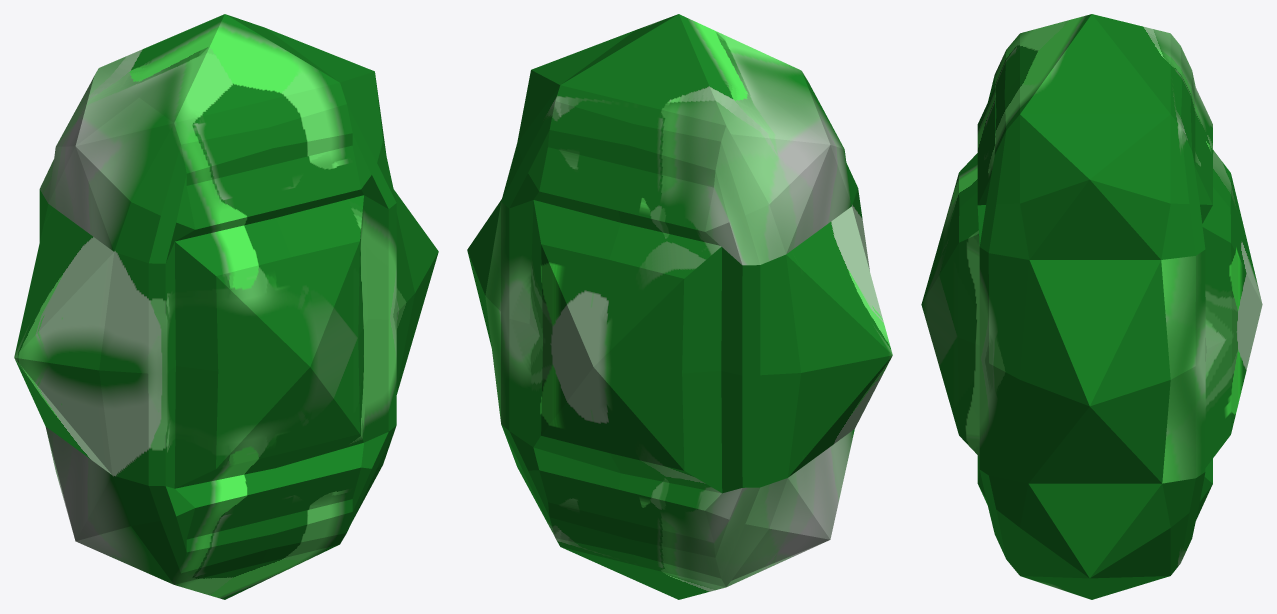
The model's file is Green_Gem_Final_Textured.fbx.
The picture shows the model from 3 angles, left to right: view 1: azimuth 30°, elevation 25°; view 2: azimuth 150°, elevation 25°; view 3: azimuth 270°, elevation 25°; orthographic projection.
Visible parts, largest first — view 1: polySurface2; view 2: polySurface2; view 3: polySurface2.
Boxes of the visible parts, box(x1,y1,x2,y2) form: polySurface2: box(14, 14, 438, 599); polySurface2: box(467, 14, 892, 599); polySurface2: box(921, 14, 1262, 599).
Bounding box in the file's own units: 1.8 × 2.36 × 1.25.
1 material, 1 textured.
